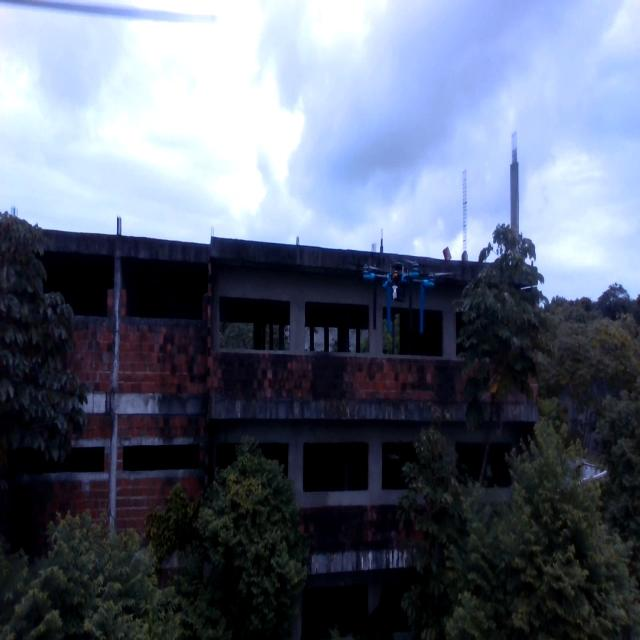-uav-: (339, 227, 463, 369)
